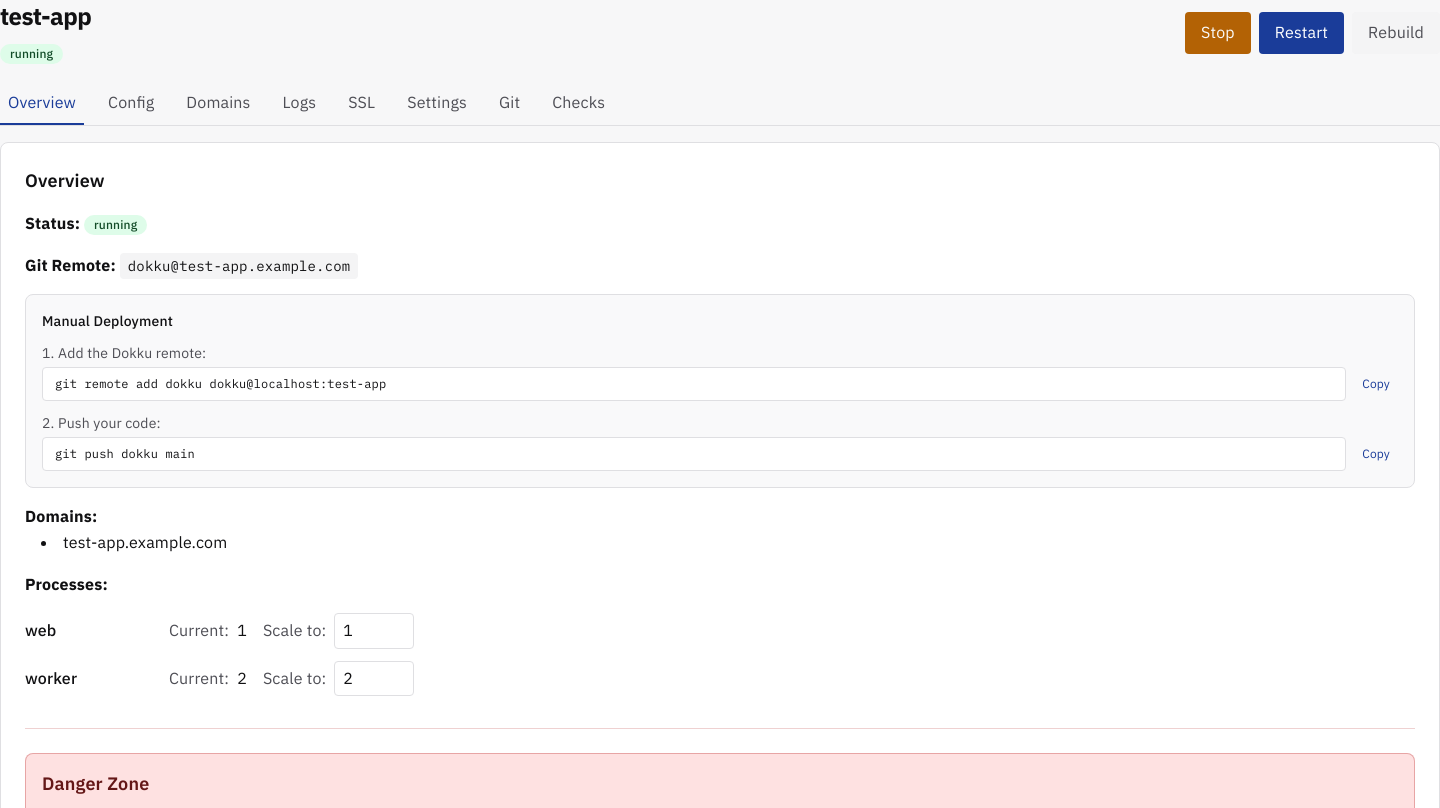
AppDetail › with submitting states › should disable config var set button during submission
Click the button "Config": [131, 107] box [100,90,162,125]
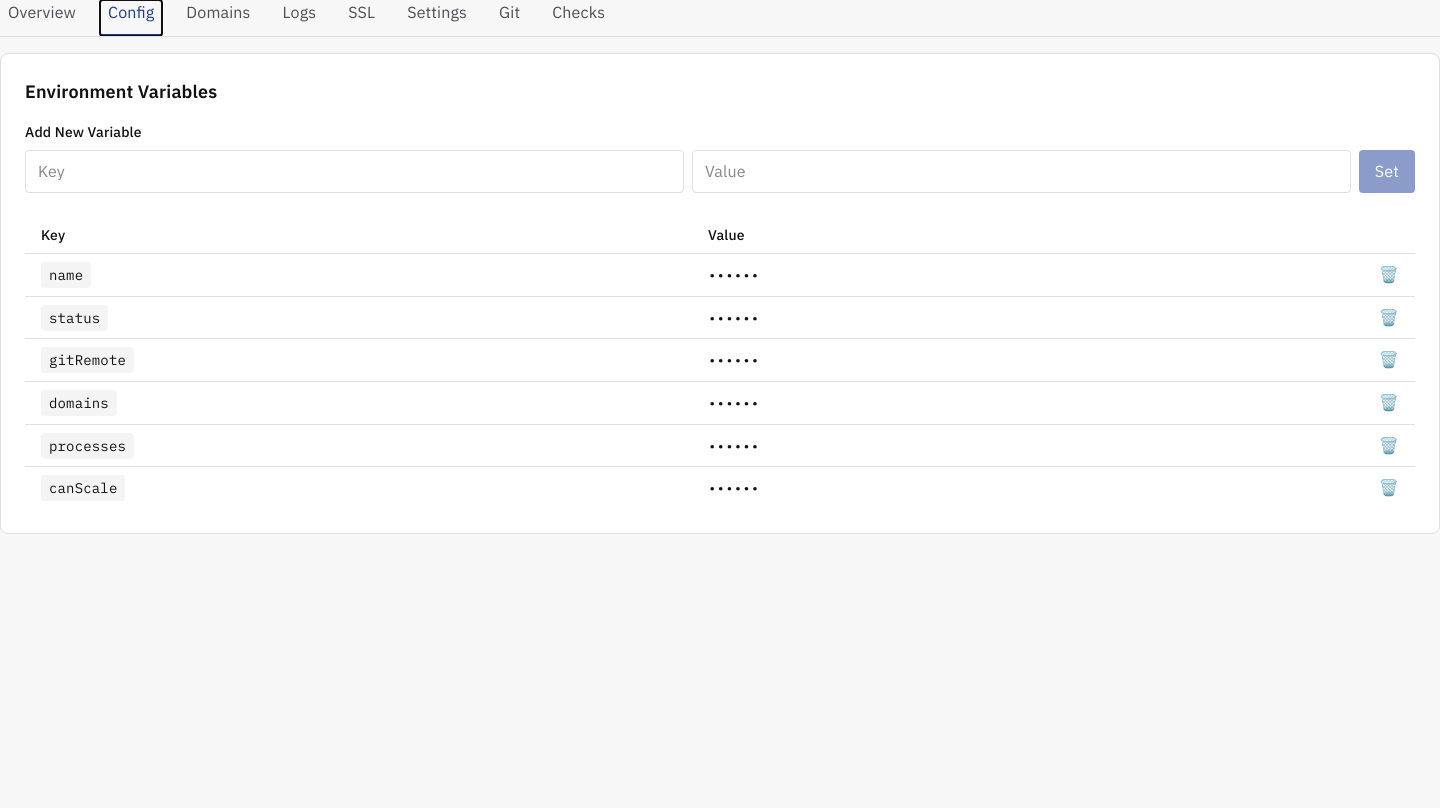
Expected: the heading "Environment Variables" is shown, [25,78,217,106]
In the field with placeholder "Key": [354, 171] box [25,150,684,193], type "TEST_KEY"
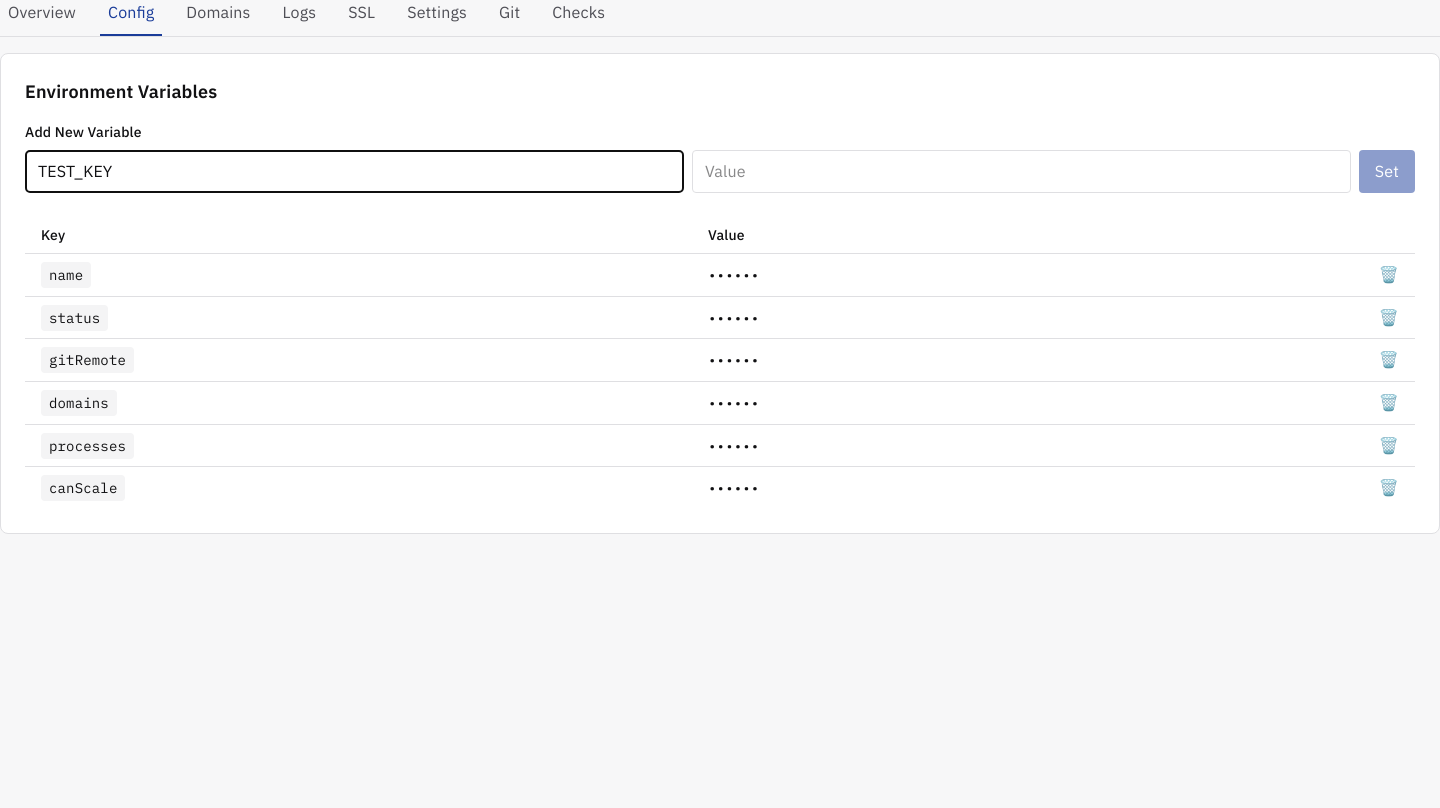
In the field with placeholder "Value": [1021, 171] box [692,150,1351,193], type "test-value"
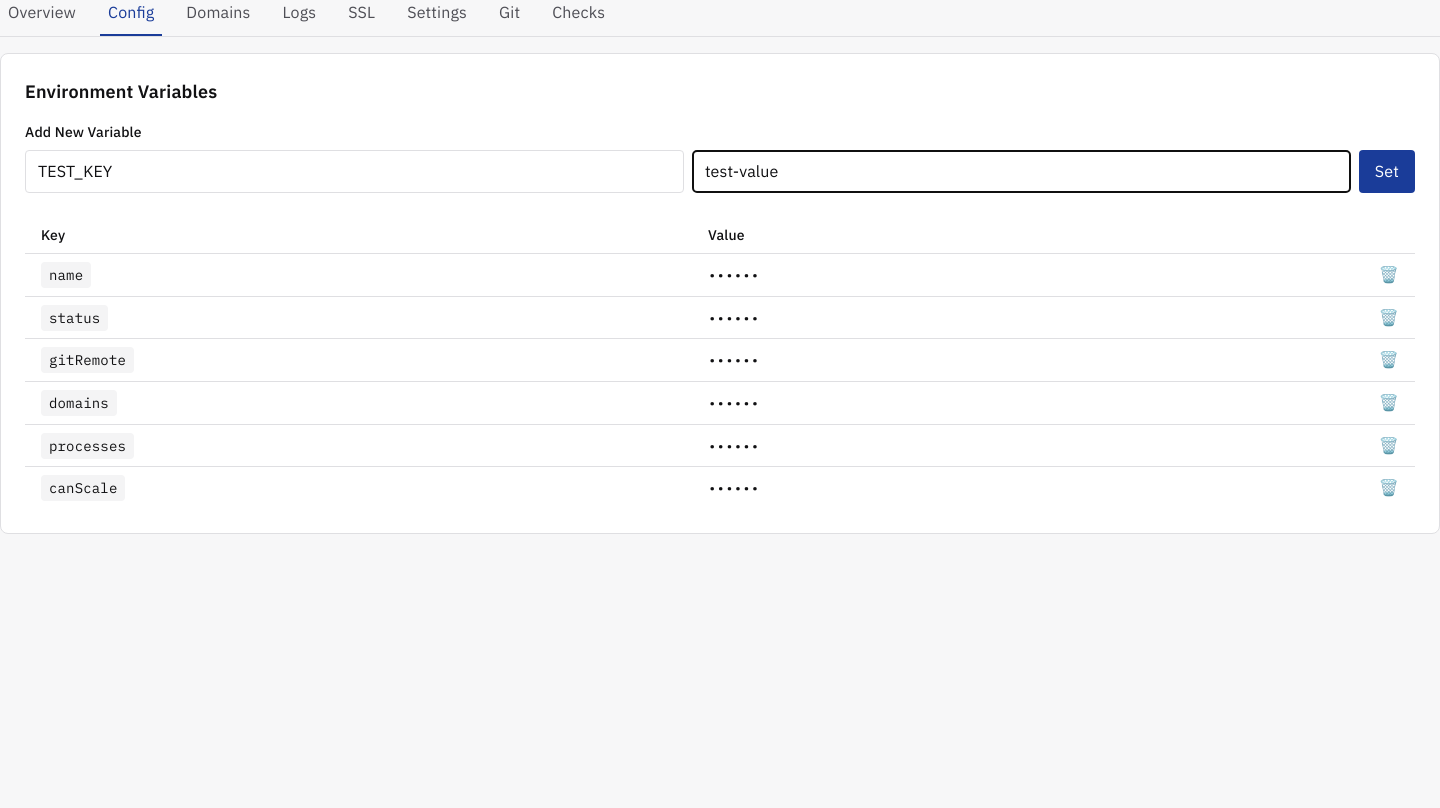
Click the button "Set": [1387, 171] box [1359,150,1415,193]
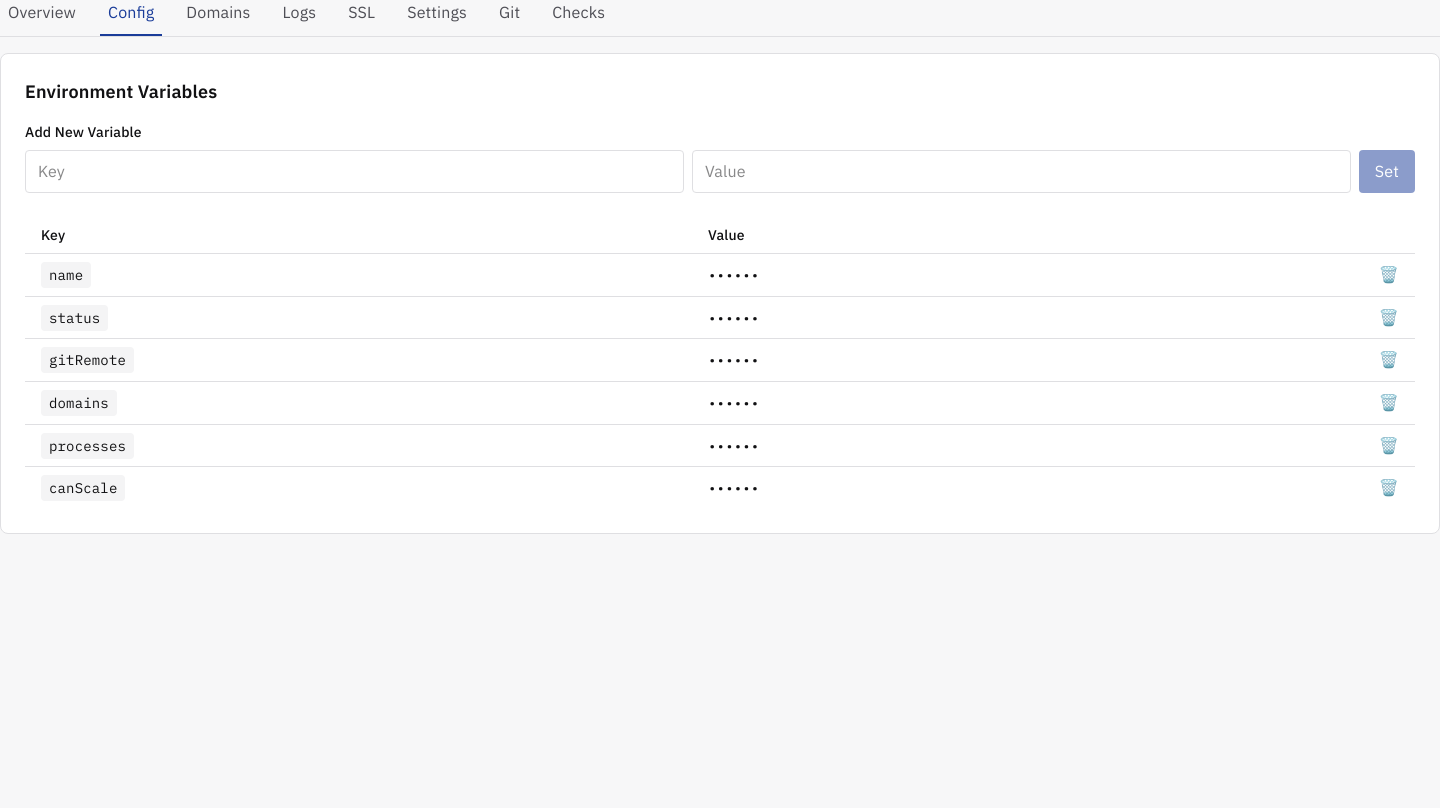
Expected: the button "Set" is disabled, [1359,150,1415,193]
